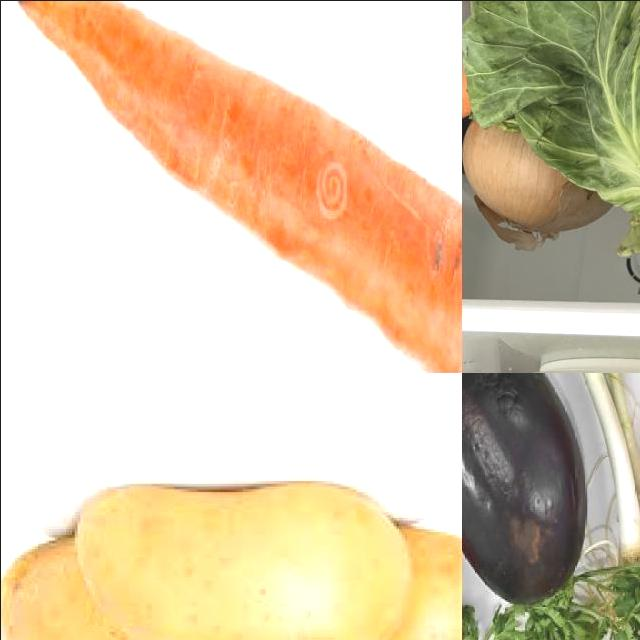cabbage: (462, 1, 640, 297)
carrot: (7, 1, 462, 373)
eggplant: (462, 373, 584, 607)
onion: (462, 115, 619, 254)
potato: (79, 483, 408, 640), (1, 535, 219, 640), (347, 523, 462, 640)
